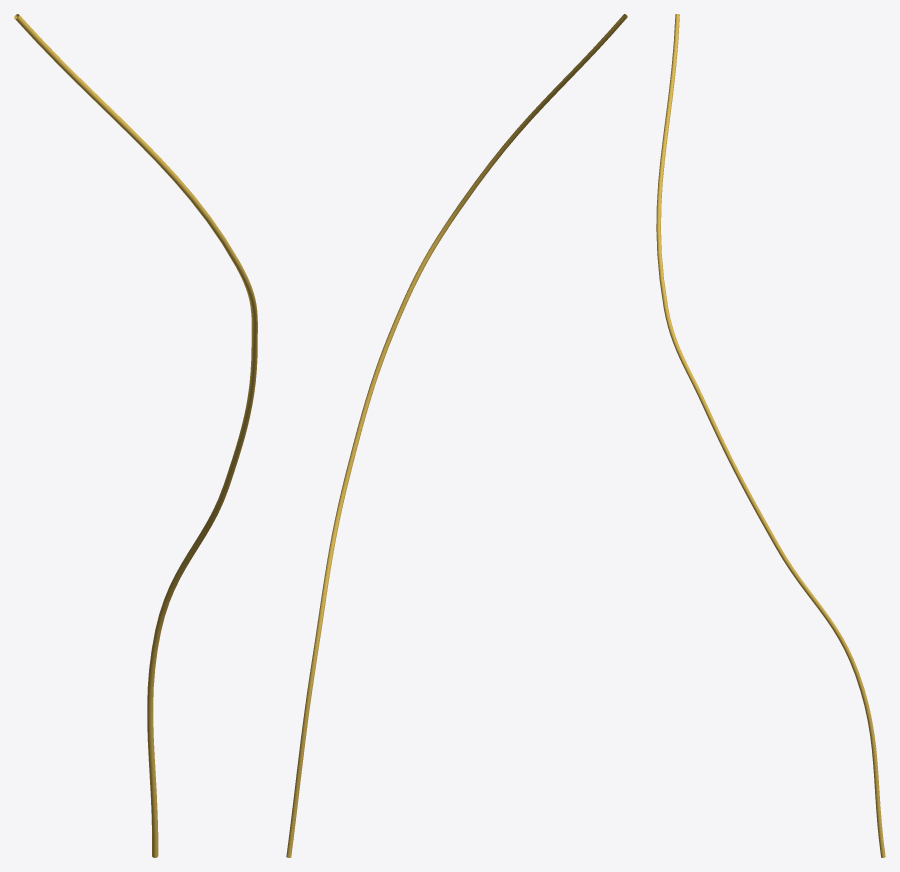
Rendered from Medial_brachial_cutaneous_nerve_left.glb.
3 views of the same model, side by side, from view 1: azimuth 30°, elevation 25°; view 2: azimuth 150°, elevation 25°; view 3: azimuth 270°, elevation 25° (orthographic). The views are drawn at different scales.
Visible parts, largest first — view 1: Medial_brachial_cutaneous_nerve.l_BezierCurve.512; view 2: Medial_brachial_cutaneous_nerve.l_BezierCurve.512; view 3: Medial_brachial_cutaneous_nerve.l_BezierCurve.512.
Boxes of the visible parts, left/top/right/bottom form: Medial_brachial_cutaneous_nerve.l_BezierCurve.512: left=14, top=14, right=257, bottom=857; Medial_brachial_cutaneous_nerve.l_BezierCurve.512: left=286, top=14, right=627, bottom=857; Medial_brachial_cutaneous_nerve.l_BezierCurve.512: left=656, top=14, right=885, bottom=857.
Size of the model in its own units: 0.0527 by 0.18 by 0.0502.
